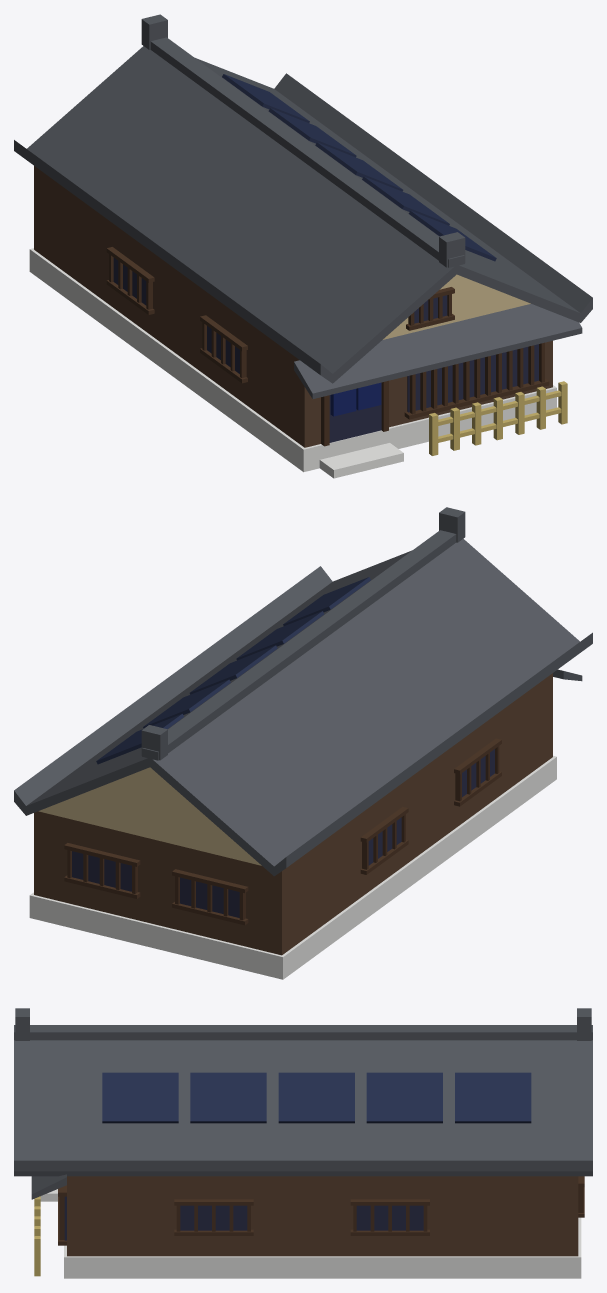
The model's file is house-1x2-1f-machiya-a-solar.glb.
The picture shows the model from 3 angles, top to bottom: view 1: azimuth 30°, elevation 25°; view 2: azimuth 150°, elevation 25°; view 3: azimuth 270°, elevation 25°; orthographic projection. The views are drawn at different scales.
Visible parts, largest first — view 1: house-1x2-1f-machiya-a-solar; view 2: house-1x2-1f-machiya-a-solar; view 3: house-1x2-1f-machiya-a-solar.
Part boxes in pixels (x1,y1,x2,y2): house-1x2-1f-machiya-a-solar: [14, 14, 592, 478]; house-1x2-1f-machiya-a-solar: [14, 507, 592, 979]; house-1x2-1f-machiya-a-solar: [14, 1008, 592, 1278].
Size of the model in its own units: 1.01 by 0.78 by 1.97.
Materials: 1 (1 with a texture image).
